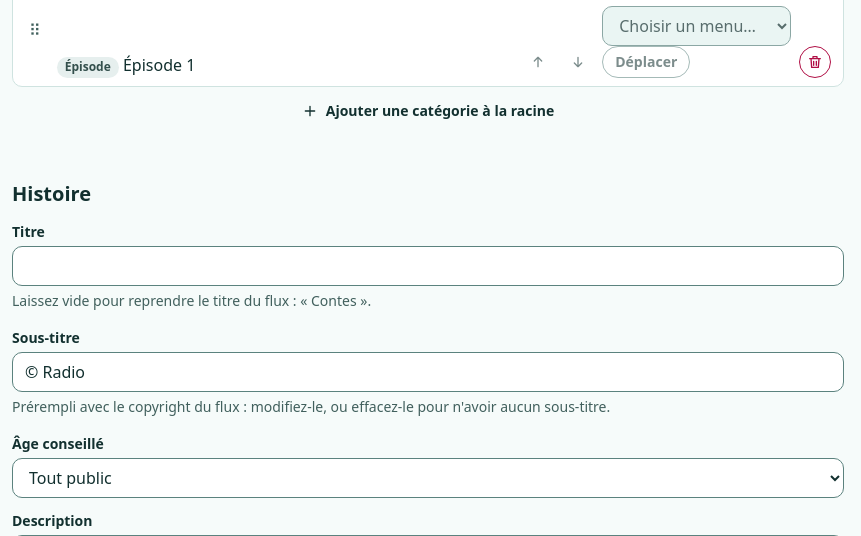
it: sous-titre : l'aide « Prérempli » disparaît après une saisie personnalisée
The width and height of the screenshot is (861, 536).
(page scrolled)
Check: the text "Prérempli avec le copyright du flux" is shown, box [12,397,610,416]
Replace the text in the field labelled "Sous-titre" with "Mon sous-titre". click: (428, 372)
box: [12,352,844,392]
(page scrolled)
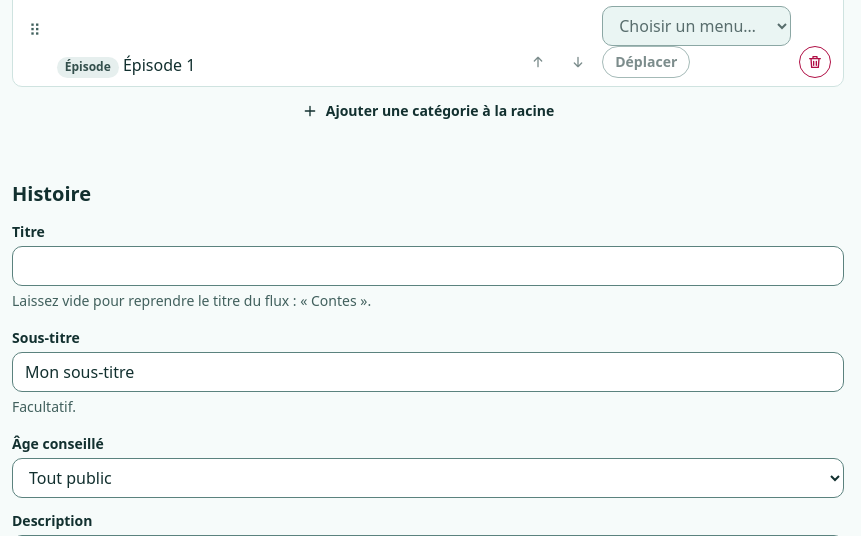
Check: the text "Prérempli" is gone
Check: the text "Facultatif." is shown, box [12,397,76,416]
